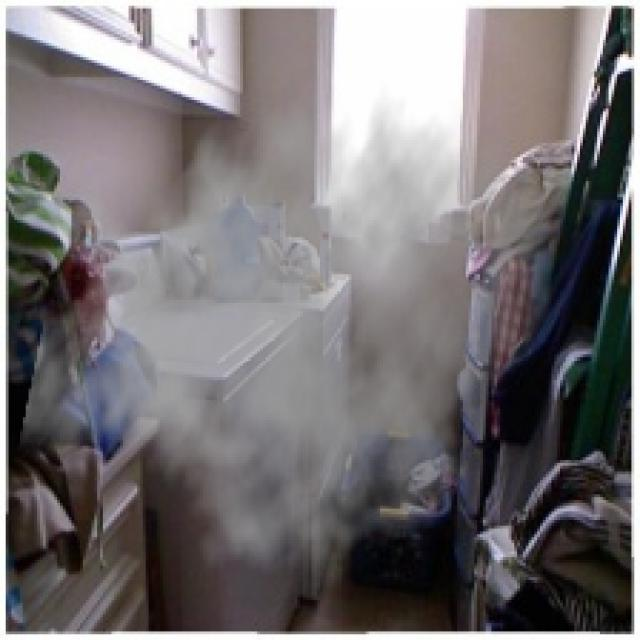Smoke: (17, 46, 560, 594)
